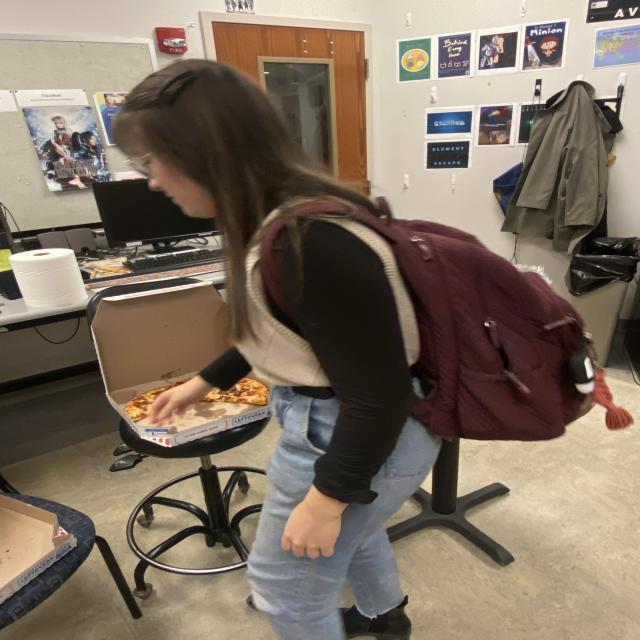Backpacks: (388, 210, 614, 447)
